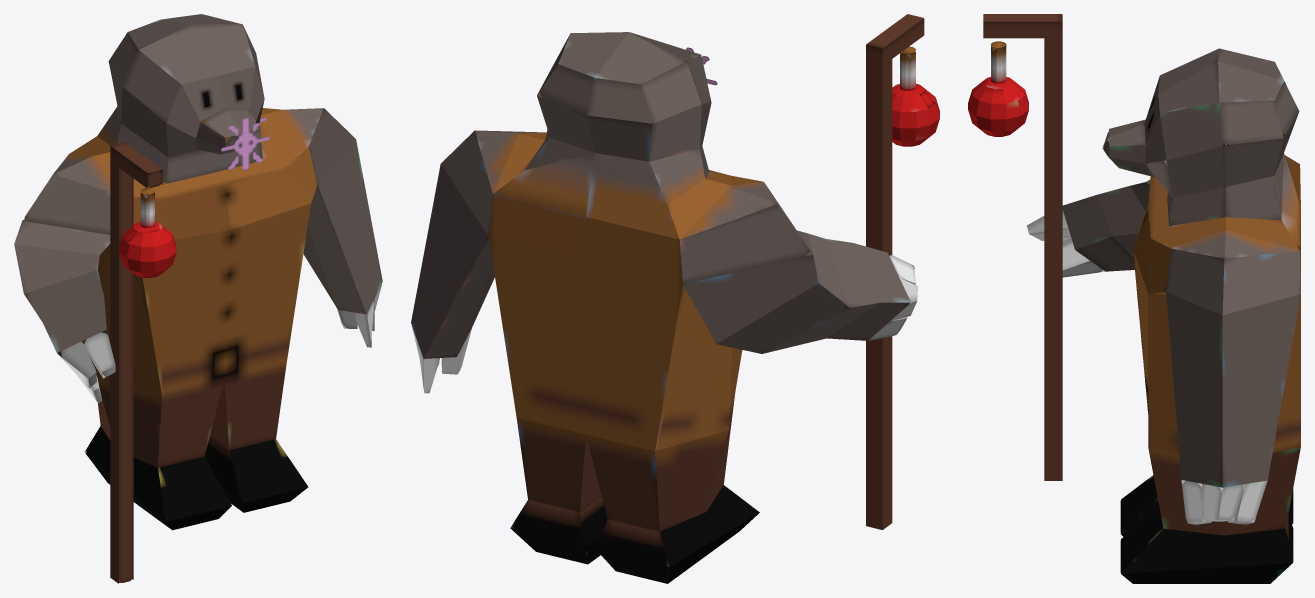
Rendered from condylure.obj.
The picture shows the model from 3 angles, left to right: view 1: azimuth 30°, elevation 25°; view 2: azimuth 150°, elevation 25°; view 3: azimuth 270°, elevation 25°; orthographic projection. The views are drawn at different scales.
Parts seen in each view (by area): view 1: cuboid; view 2: cuboid; view 3: cuboid.
Boxes of the visible parts, x1=… form: cuboid: x1=14, y1=14, x2=382, y2=583; cuboid: x1=411, y1=14, x2=939, y2=583; cuboid: x1=968, y1=14, x2=1300, y2=583.
Size of the model in its own units: 0.9734 by 1.11 by 0.6812.
Materials: 1 (1 with a texture image).
